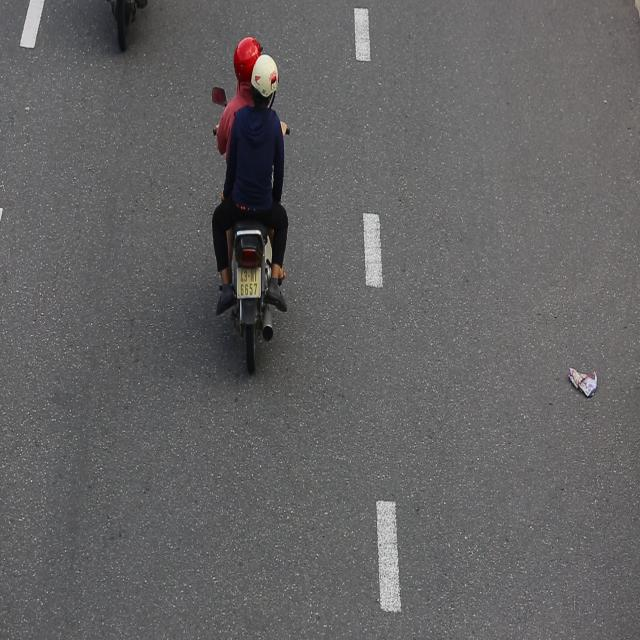motorbike: (205, 36, 296, 379)
